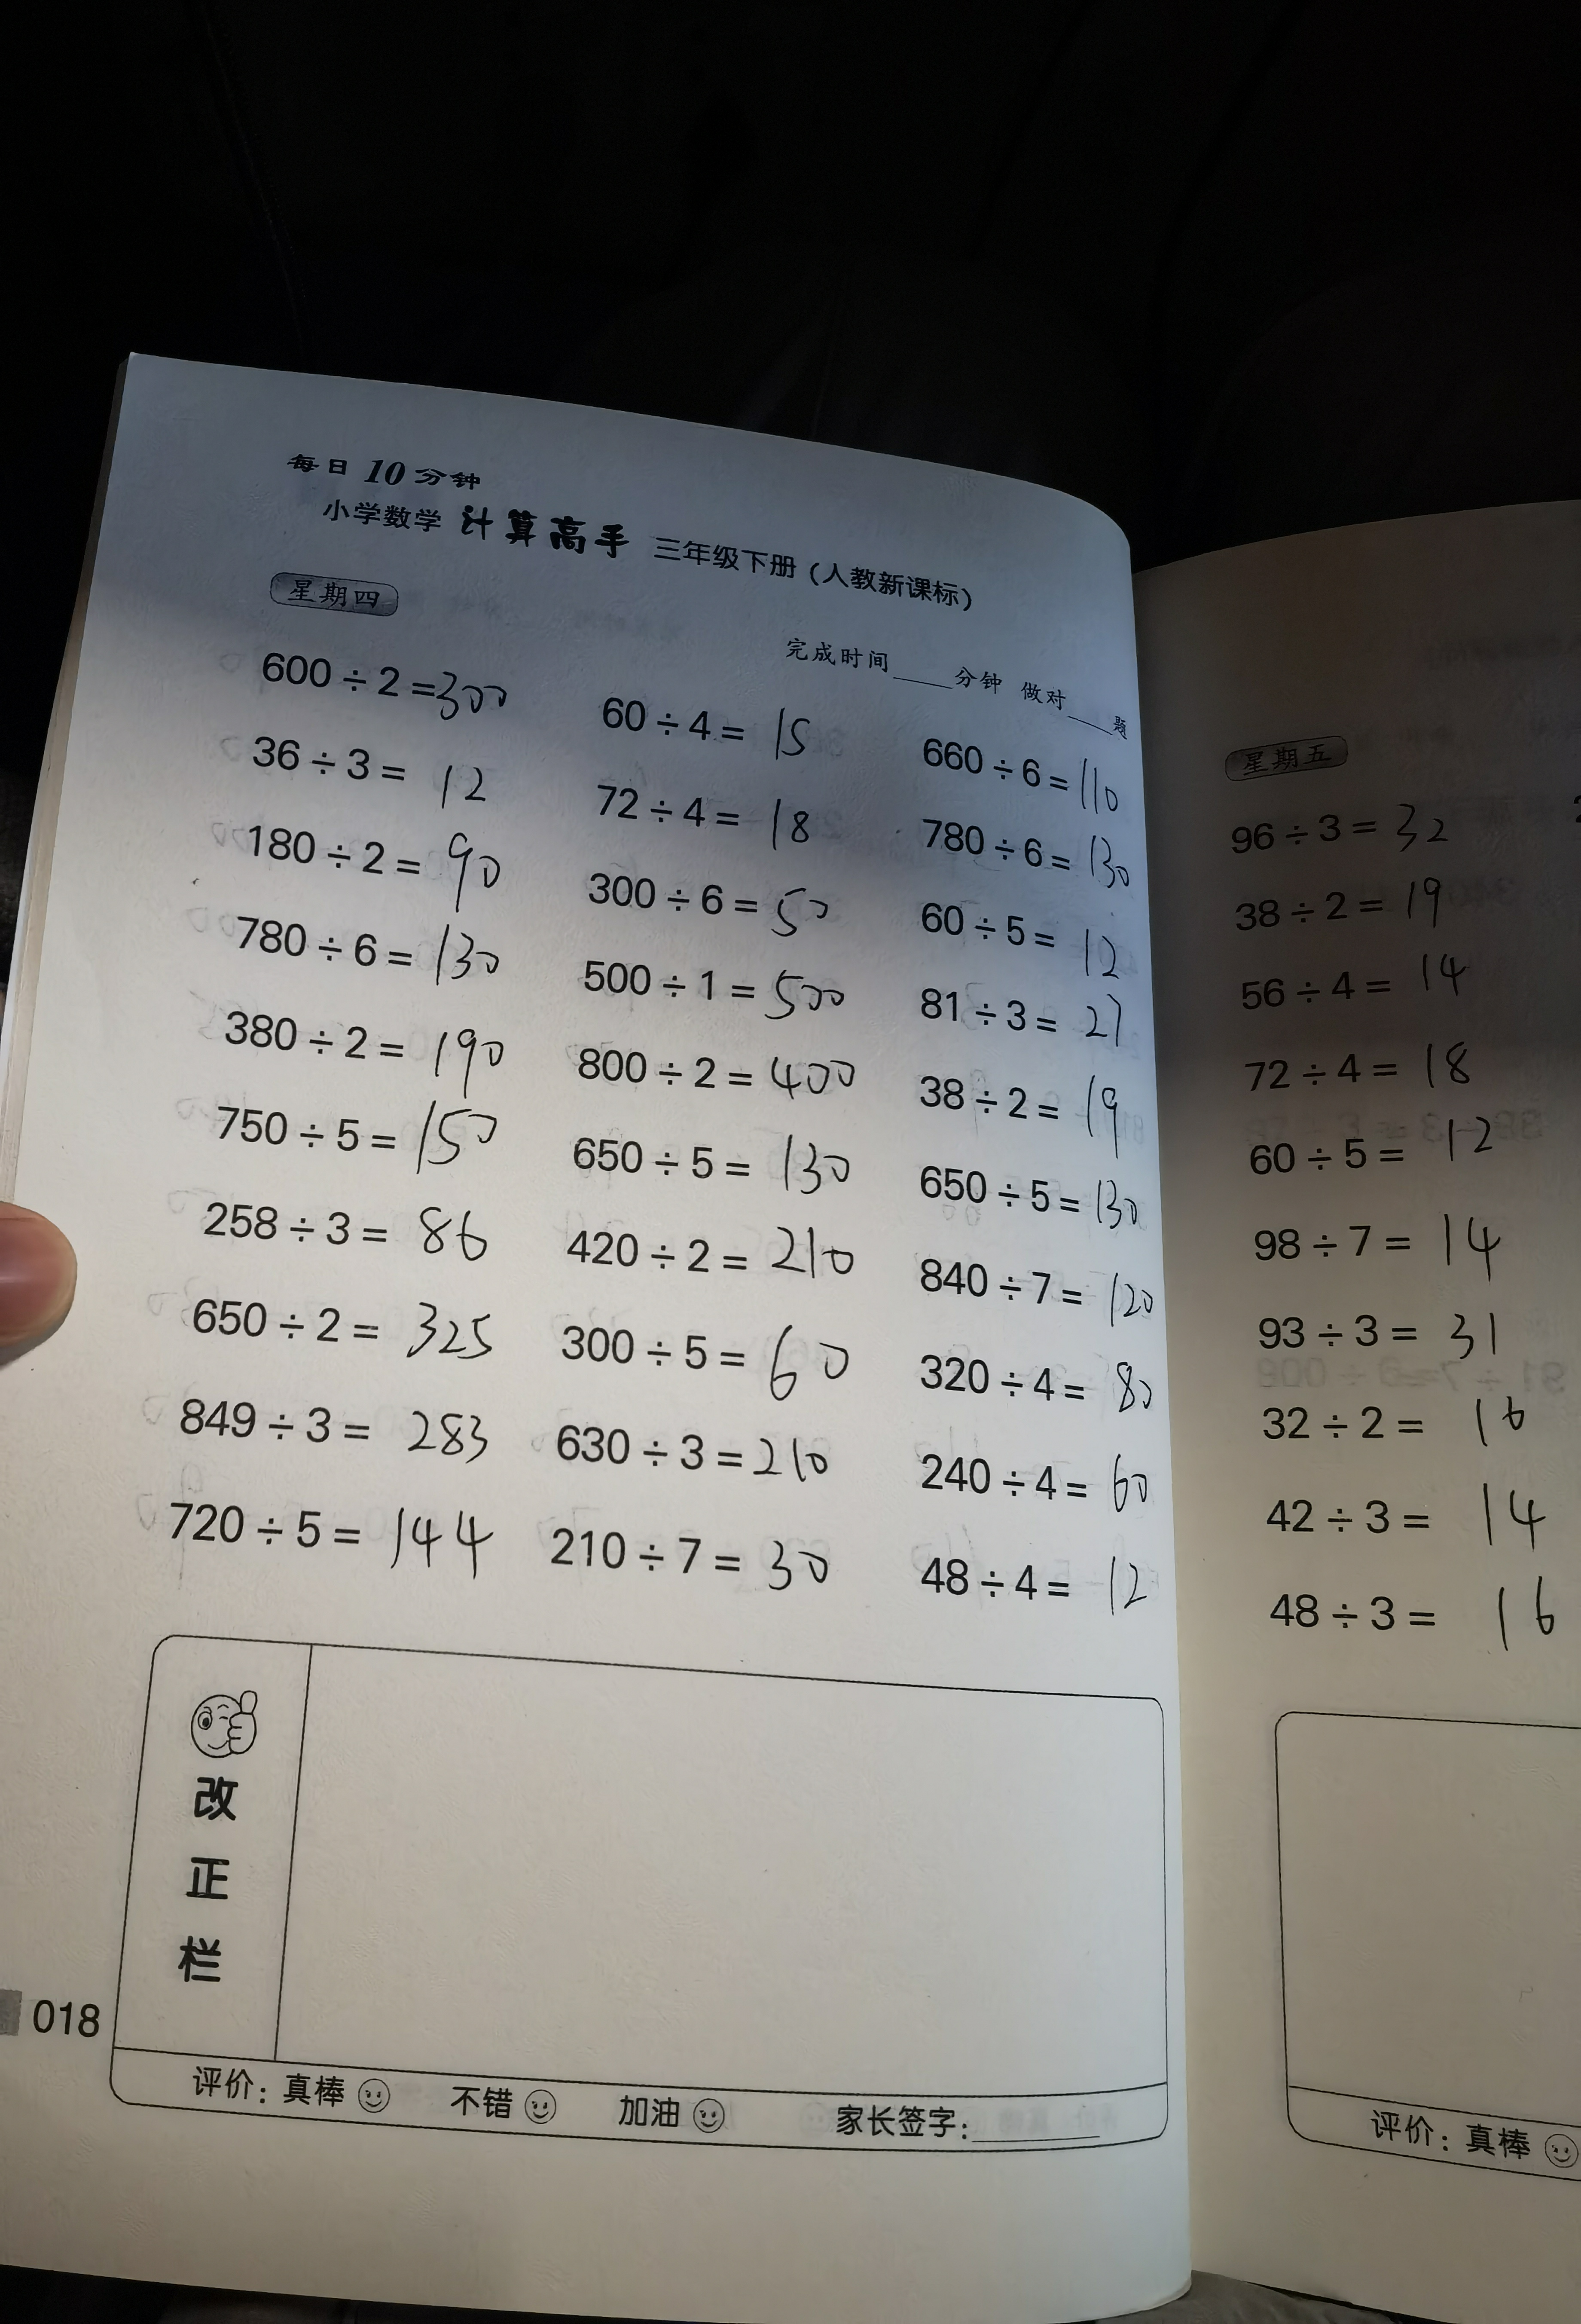equation: (122, 1489, 489, 1595), (141, 1278, 510, 1376), (182, 993, 522, 1096), (138, 1389, 506, 1481), (540, 1518, 849, 1623), (552, 1302, 889, 1396), (244, 628, 543, 732), (178, 1188, 510, 1279), (558, 1112, 868, 1209), (577, 946, 888, 1034), (231, 918, 528, 1006), (570, 856, 865, 944), (556, 1226, 889, 1302), (189, 1094, 499, 1175), (919, 708, 1135, 822), (905, 1251, 1168, 1339), (918, 1345, 1170, 1435), (543, 1424, 835, 1502), (918, 1544, 1182, 1629), (588, 681, 835, 768), (914, 1062, 1136, 1154), (577, 1034, 889, 1098), (919, 813, 1147, 900), (919, 898, 1140, 985), (909, 1163, 1150, 1241), (252, 732, 499, 806), (910, 1447, 1161, 1518), (595, 775, 831, 847), (240, 819, 515, 881), (921, 986, 1150, 1053)
